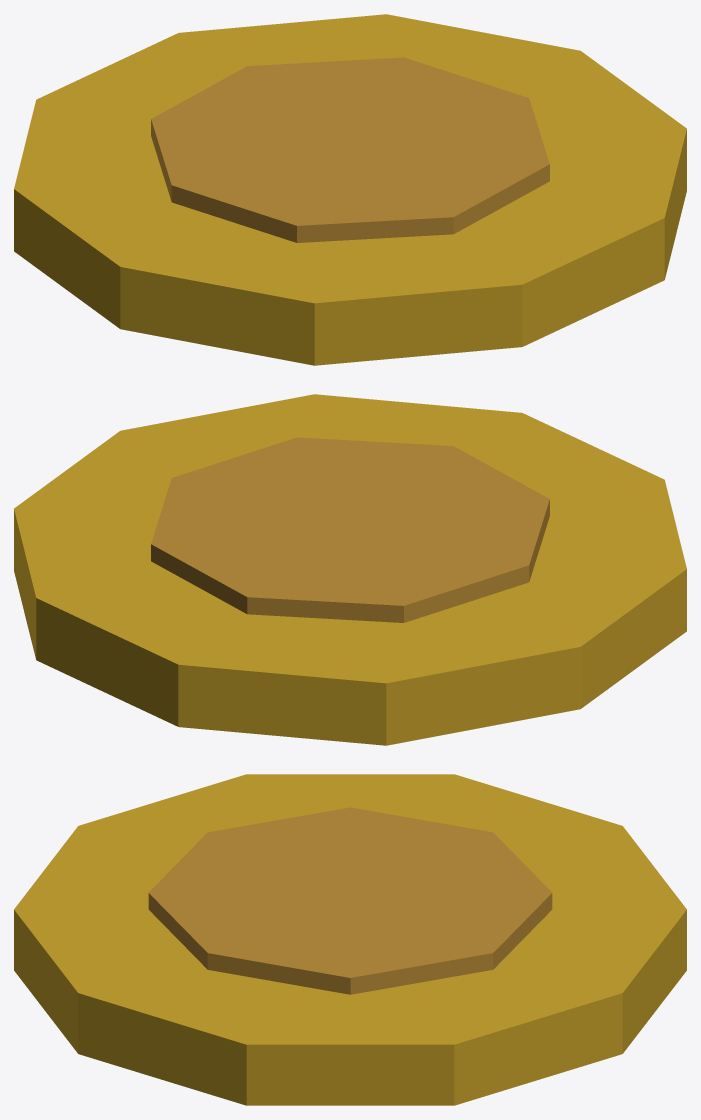
The model's file is MarketCoin.fbx.
3 views of the same model, one above another, from view 1: azimuth 30°, elevation 25°; view 2: azimuth 150°, elevation 25°; view 3: azimuth 270°, elevation 25° (orthographic). The views are drawn at different scales.
Visible parts, largest first — view 1: MarketCoin; view 2: MarketCoin; view 3: MarketCoin.
Boxes of the visible parts, x1,y1,x2,y2 form: MarketCoin: (14,14,686,365); MarketCoin: (14,394,686,745); MarketCoin: (14,774,686,1105).
Size of the model in its own units: 3.8 by 0.51 by 4.
2 materials, 2 textured.
